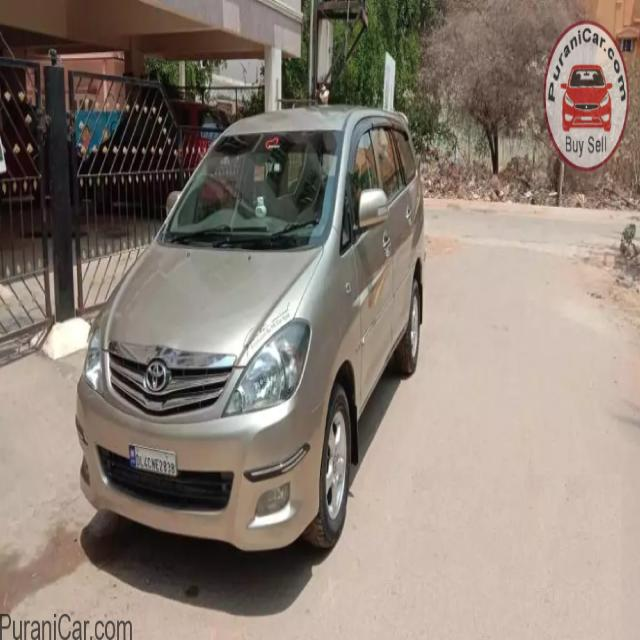light_vehicle: (75, 100, 427, 554)
